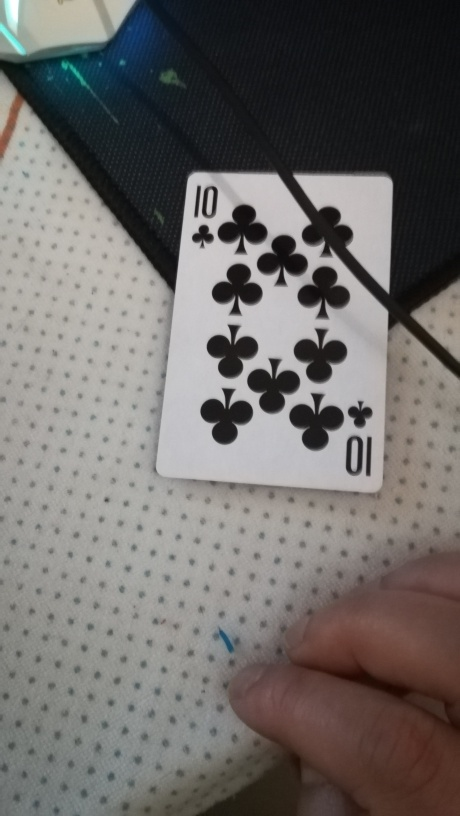mh 10: (154, 168, 393, 495)
